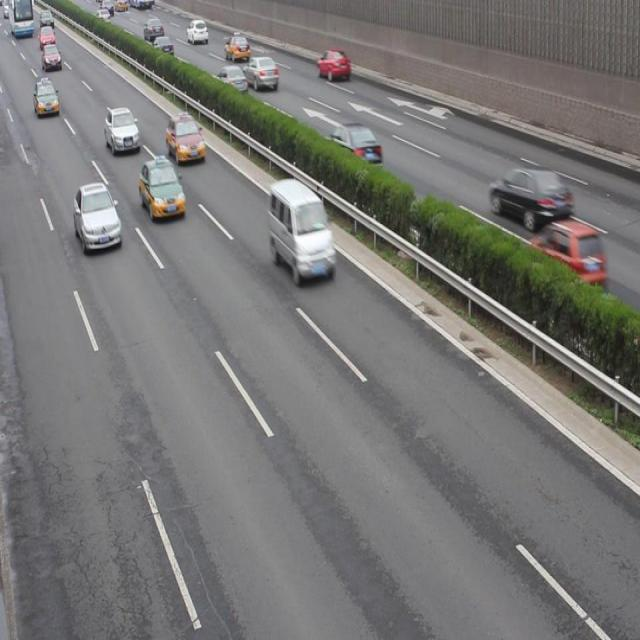car: (528, 220, 605, 290), (488, 165, 571, 228), (74, 184, 121, 255), (139, 157, 184, 221), (326, 121, 382, 169), (166, 112, 206, 164), (104, 105, 139, 155), (242, 56, 277, 92), (316, 49, 349, 84), (34, 79, 59, 117), (216, 66, 246, 96), (224, 32, 250, 63), (42, 42, 62, 71), (151, 34, 173, 60), (186, 20, 209, 44), (142, 18, 162, 41)
truck: (267, 179, 336, 283)
